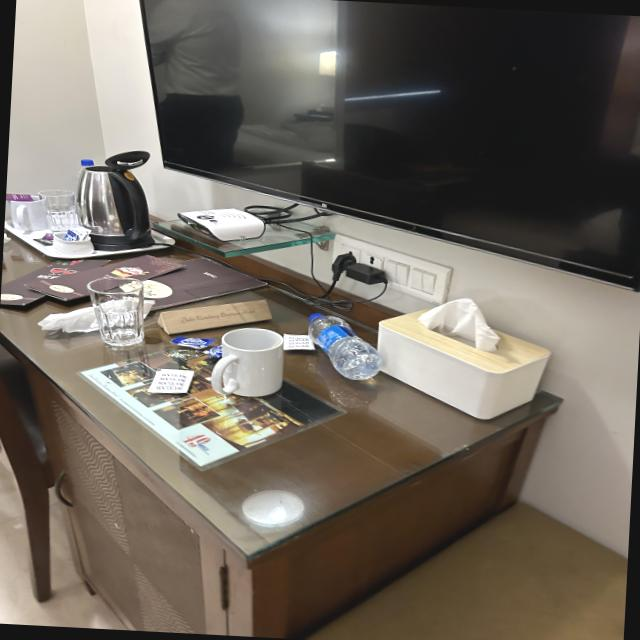mess: (0, 162, 583, 593)
